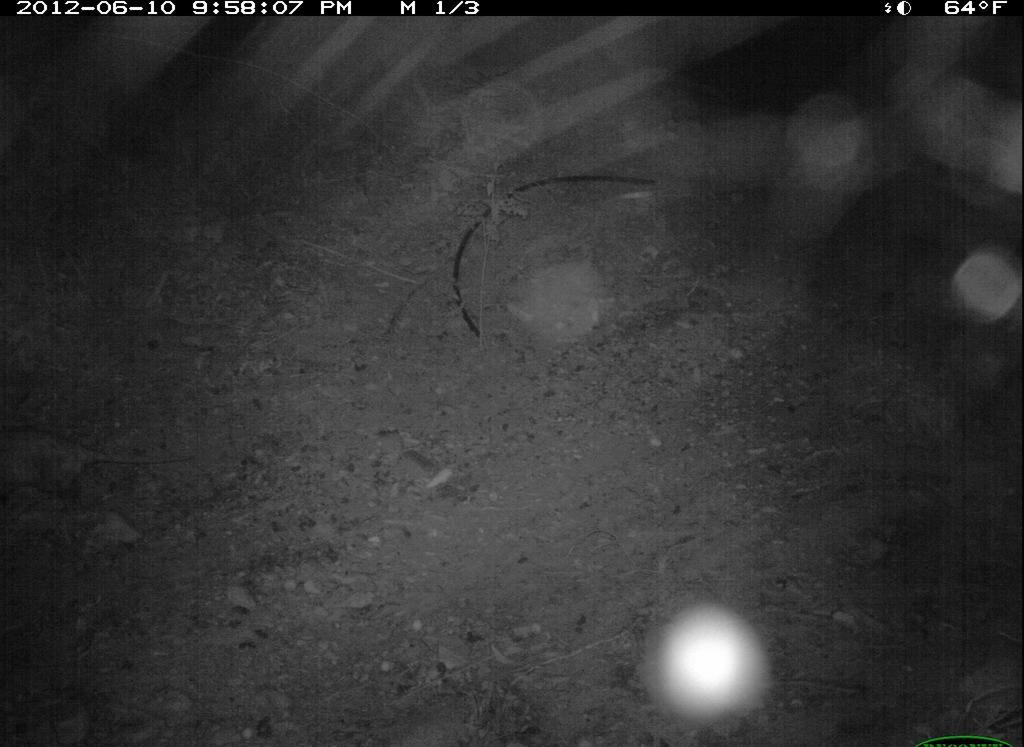opossum: (1, 422, 203, 523)
